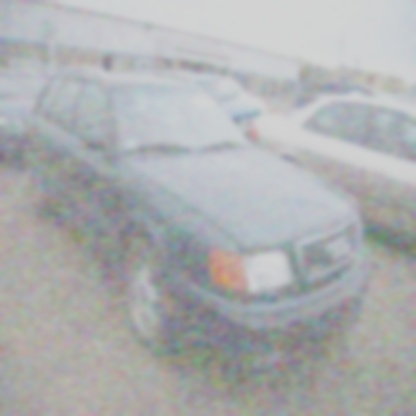Vehicle: (27, 66, 372, 374)
